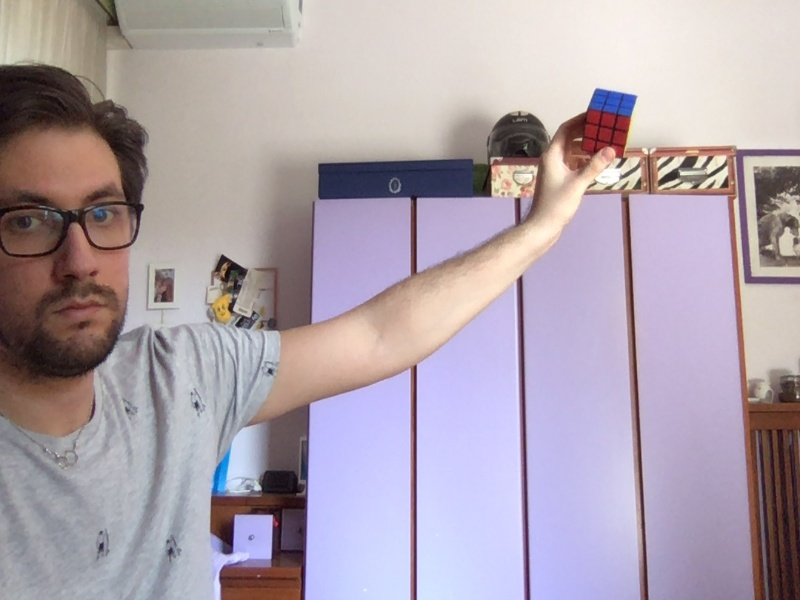rubik: (582, 88, 637, 157)
